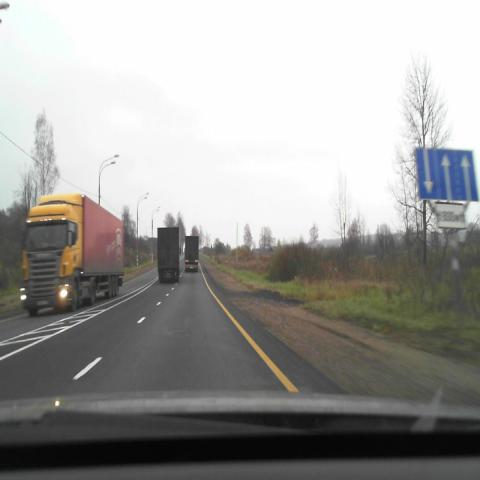8_2_1: (436, 203, 466, 228)
